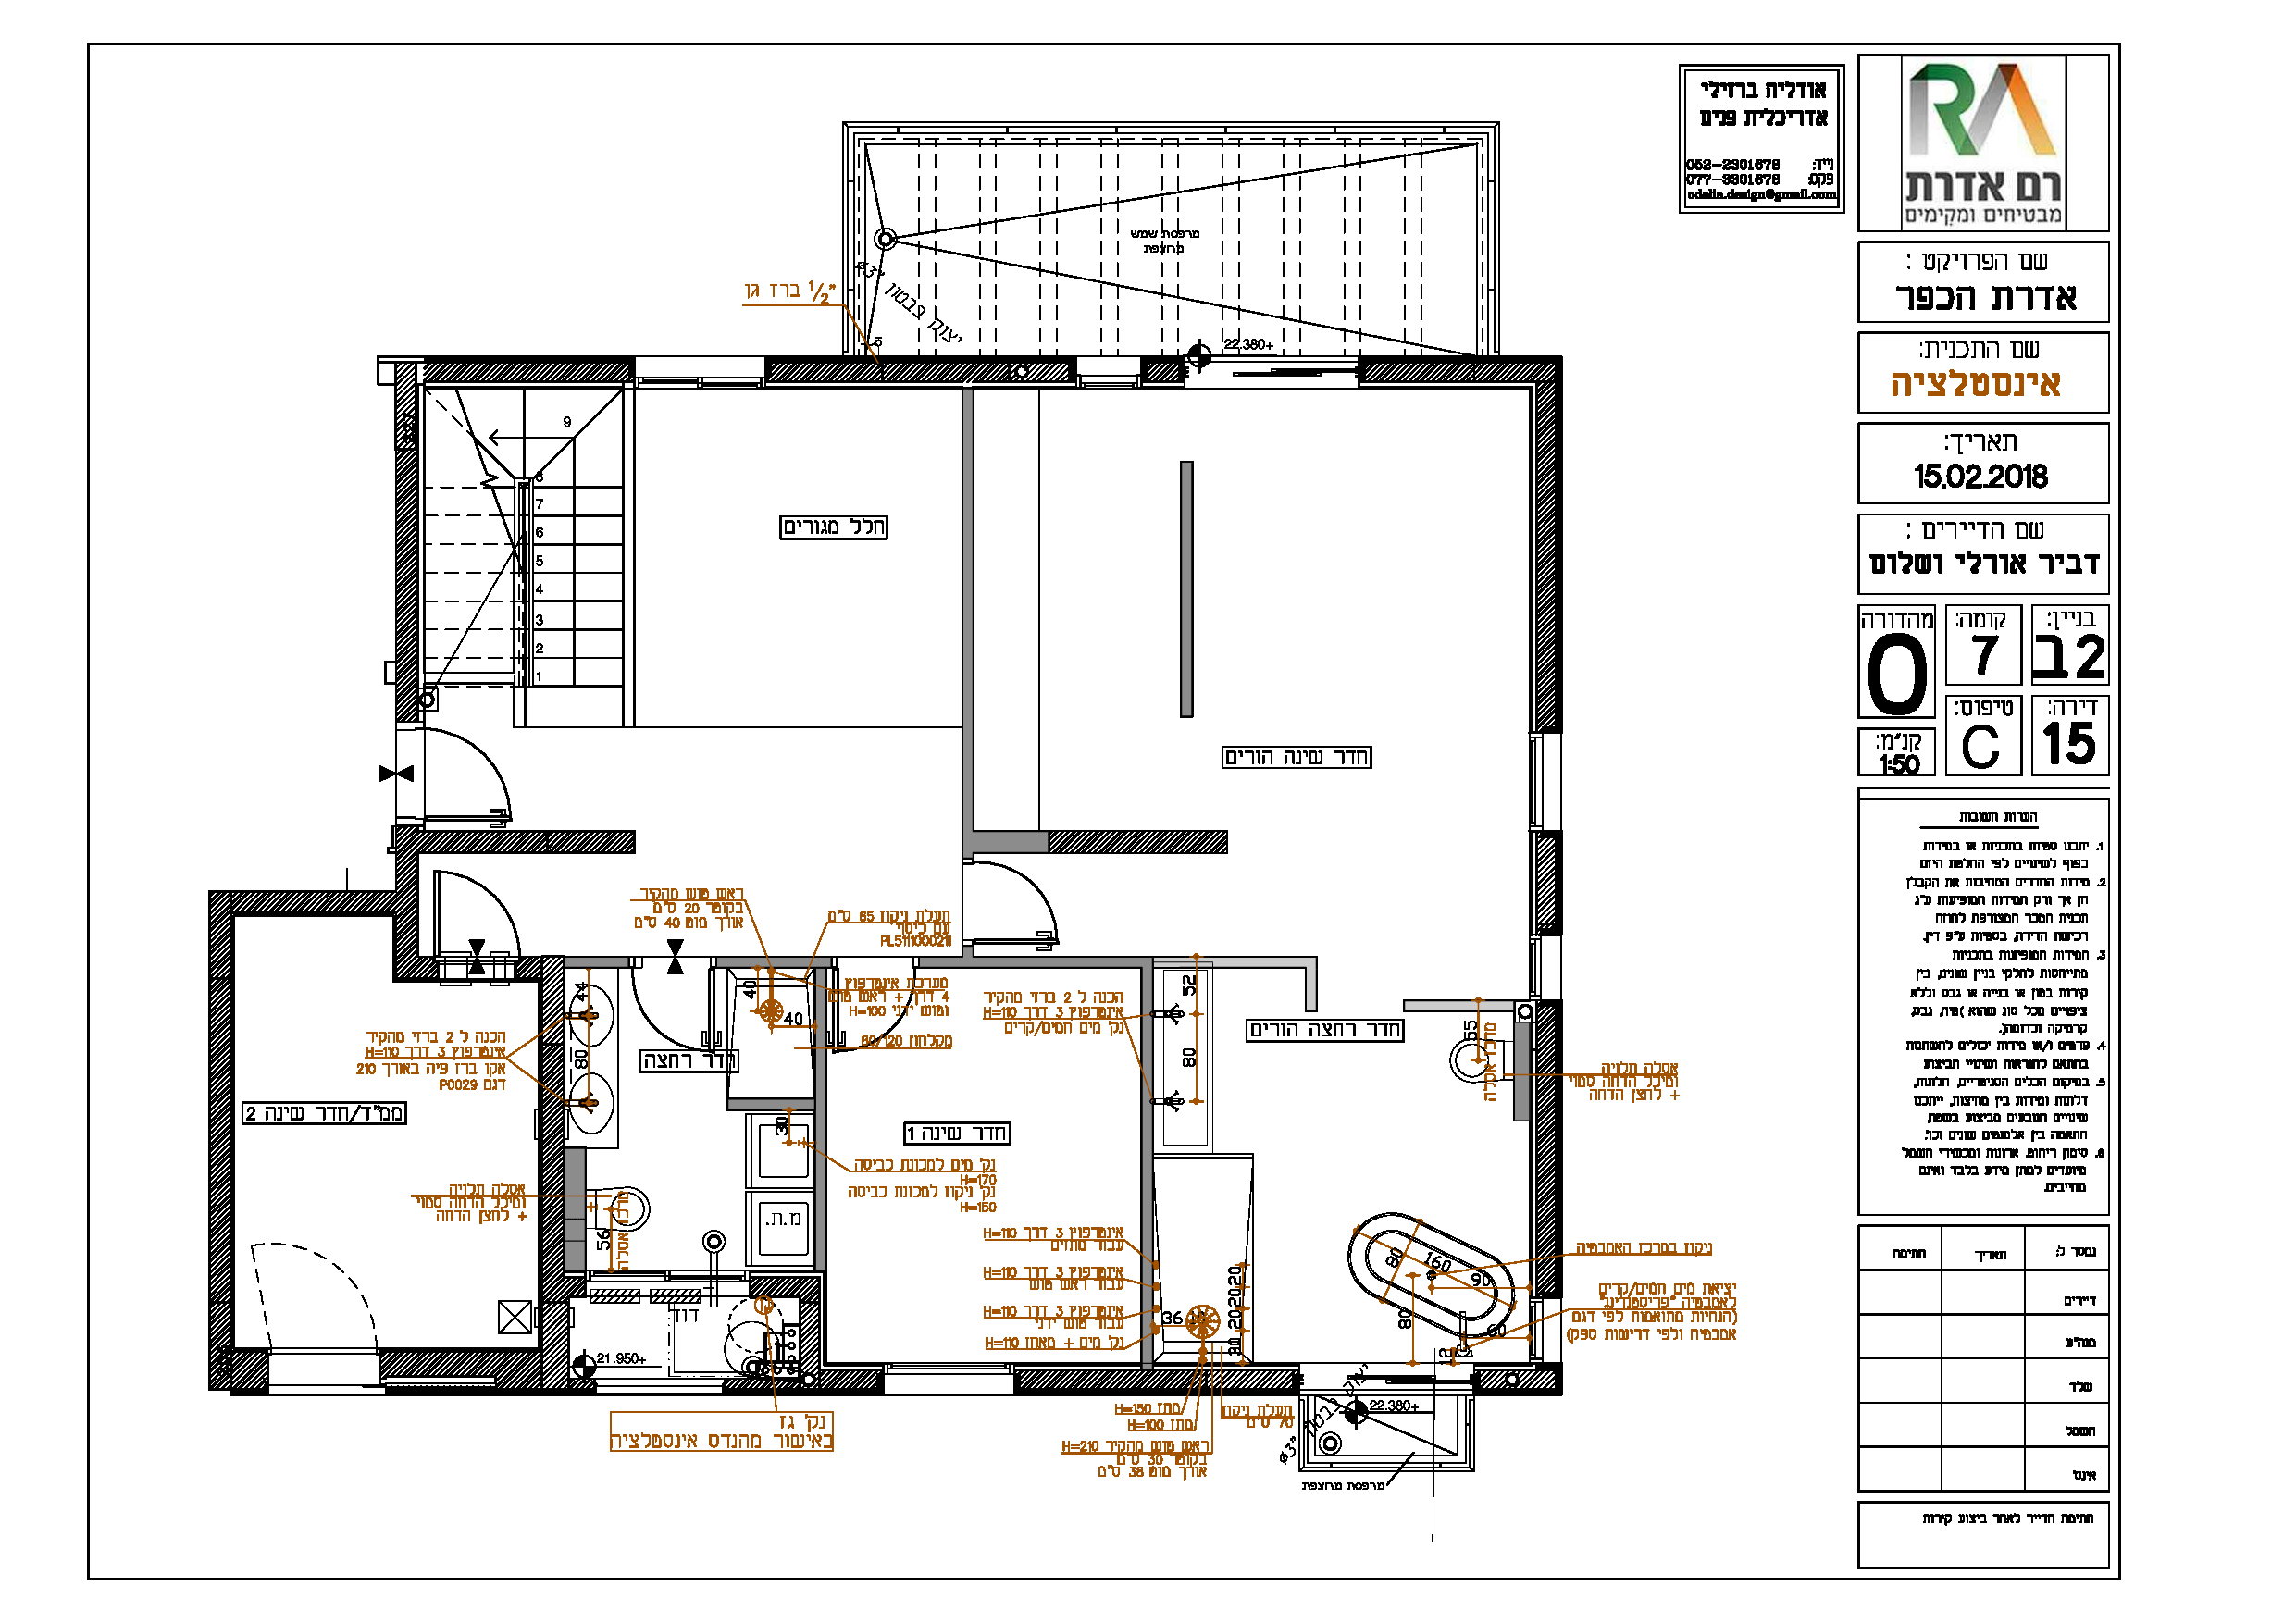door: (439, 724, 525, 824), (425, 868, 534, 936), (624, 984, 720, 1052)
wall: (211, 894, 230, 1340), (1535, 367, 1558, 710), (393, 453, 418, 689), (963, 386, 973, 843), (211, 892, 413, 913), (1539, 1078, 1558, 1240), (1051, 833, 1224, 850), (395, 833, 416, 973), (385, 1352, 532, 1372), (430, 365, 627, 379), (1028, 1372, 1182, 1388), (413, 834, 545, 852), (1184, 464, 1193, 706), (968, 833, 1047, 852)
window: (885, 1352, 1014, 1416), (632, 351, 768, 397), (1521, 732, 1569, 833), (1523, 934, 1572, 999)
